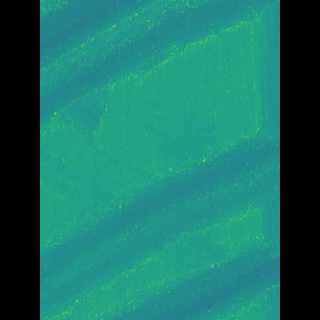Loch: (70, 130, 249, 320), (70, 0, 247, 126)
